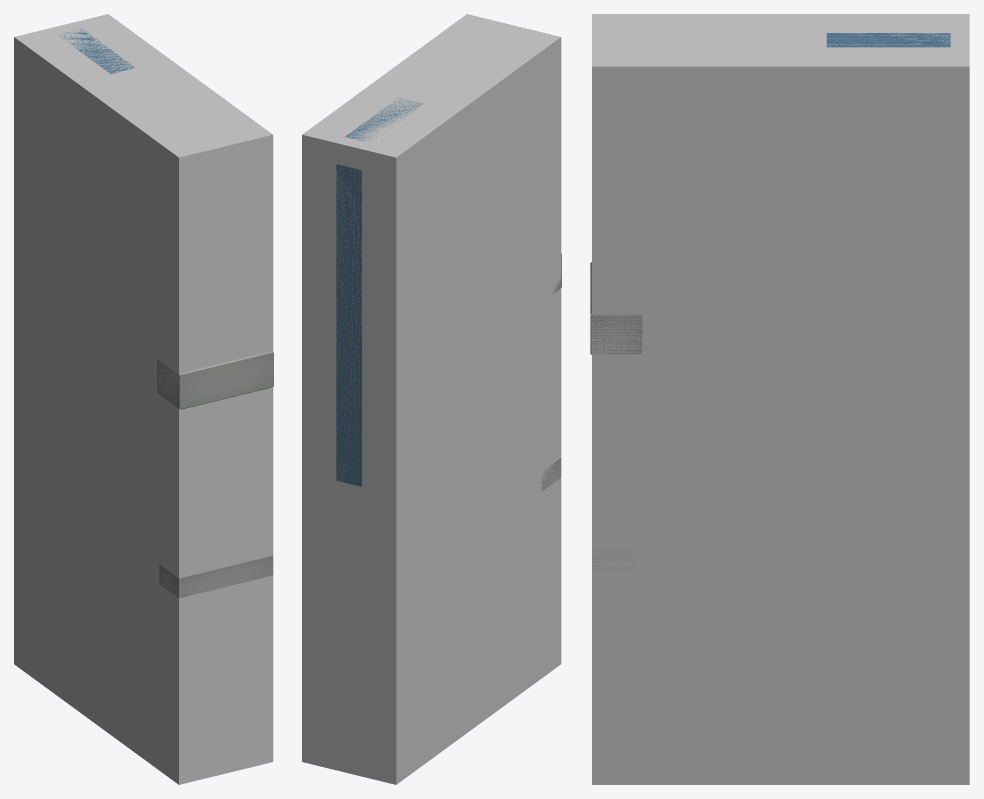
Rendered from SM_Electric_Car_Billboard.fbx.
3 renders of one model, left to right at view 1: azimuth 30°, elevation 25°; view 2: azimuth 150°, elevation 25°; view 3: azimuth 270°, elevation 25°, orthographic. The views are drawn at different scales.
Parts seen in each view (by area): view 1: SM_Electric_Car_Billboard_ConvexHulls, SM_Electric_Car_Billboard; view 2: SM_Electric_Car_Billboard_ConvexHulls, SM_Electric_Car_Billboard; view 3: SM_Electric_Car_Billboard_ConvexHulls, SM_Electric_Car_Billboard.
Boxes of the visible parts, box(x1,y1,x2,y2) form: SM_Electric_Car_Billboard_ConvexHulls: box(14, 14, 273, 784); SM_Electric_Car_Billboard: box(59, 29, 273, 598); SM_Electric_Car_Billboard_ConvexHulls: box(302, 14, 561, 784); SM_Electric_Car_Billboard: box(336, 98, 561, 491); SM_Electric_Car_Billboard_ConvexHulls: box(592, 14, 969, 784); SM_Electric_Car_Billboard: box(590, 33, 950, 570).
Size of the model in its own units: 60 by 183 by 382.
2 materials, 1 textured.
